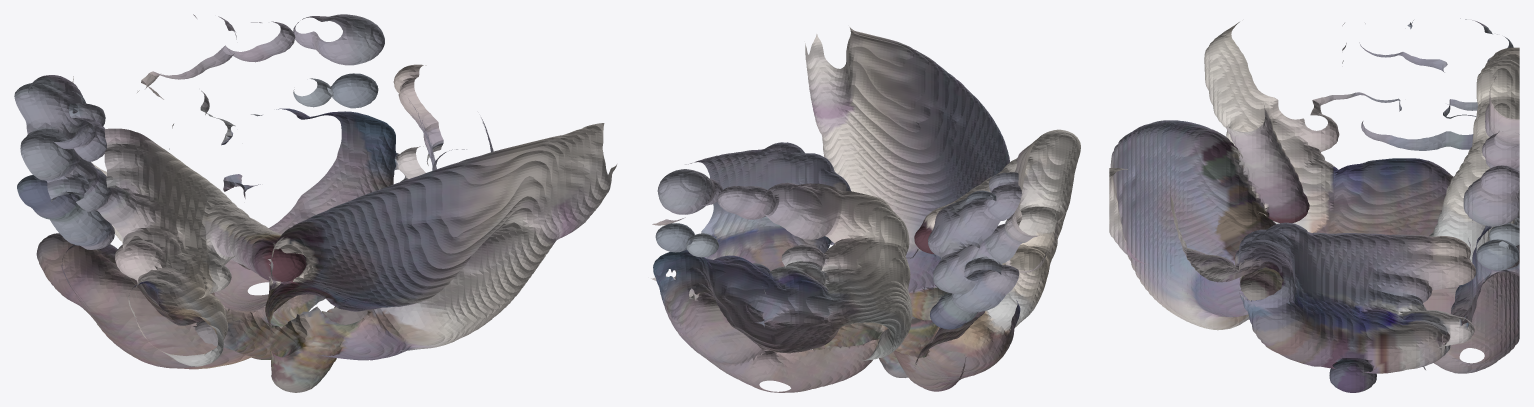
The model's file is mesh_4view_depth_full_mask_after.glb.
The picture shows the model from 3 angles, left to right: view 1: azimuth 30°, elevation 25°; view 2: azimuth 150°, elevation 25°; view 3: azimuth 270°, elevation 25°; orthographic projection. The views are drawn at different scales.
Bounding box in the file's own units: 86.34 × 57.69 × 89.22.
